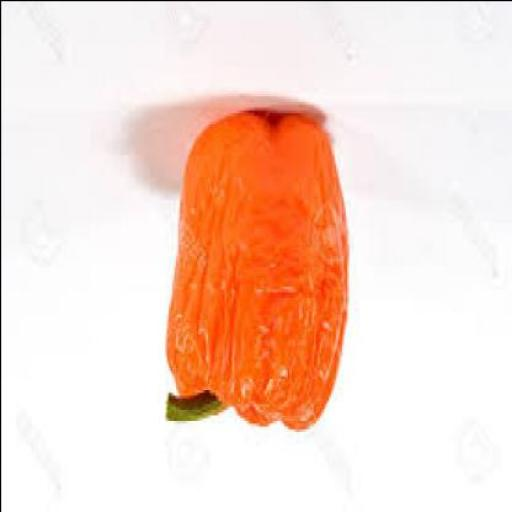biodegradable: (164, 109, 346, 431)
